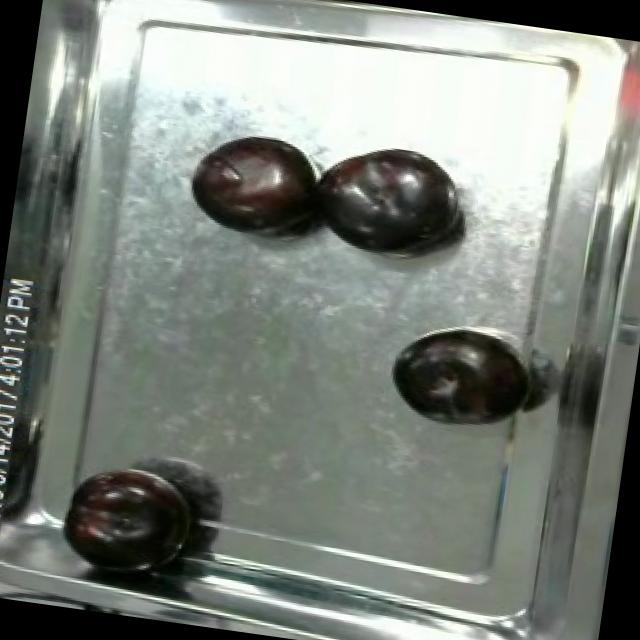Fruit: (300, 134, 473, 270), (376, 320, 533, 439), (180, 125, 325, 248), (52, 450, 202, 568)
